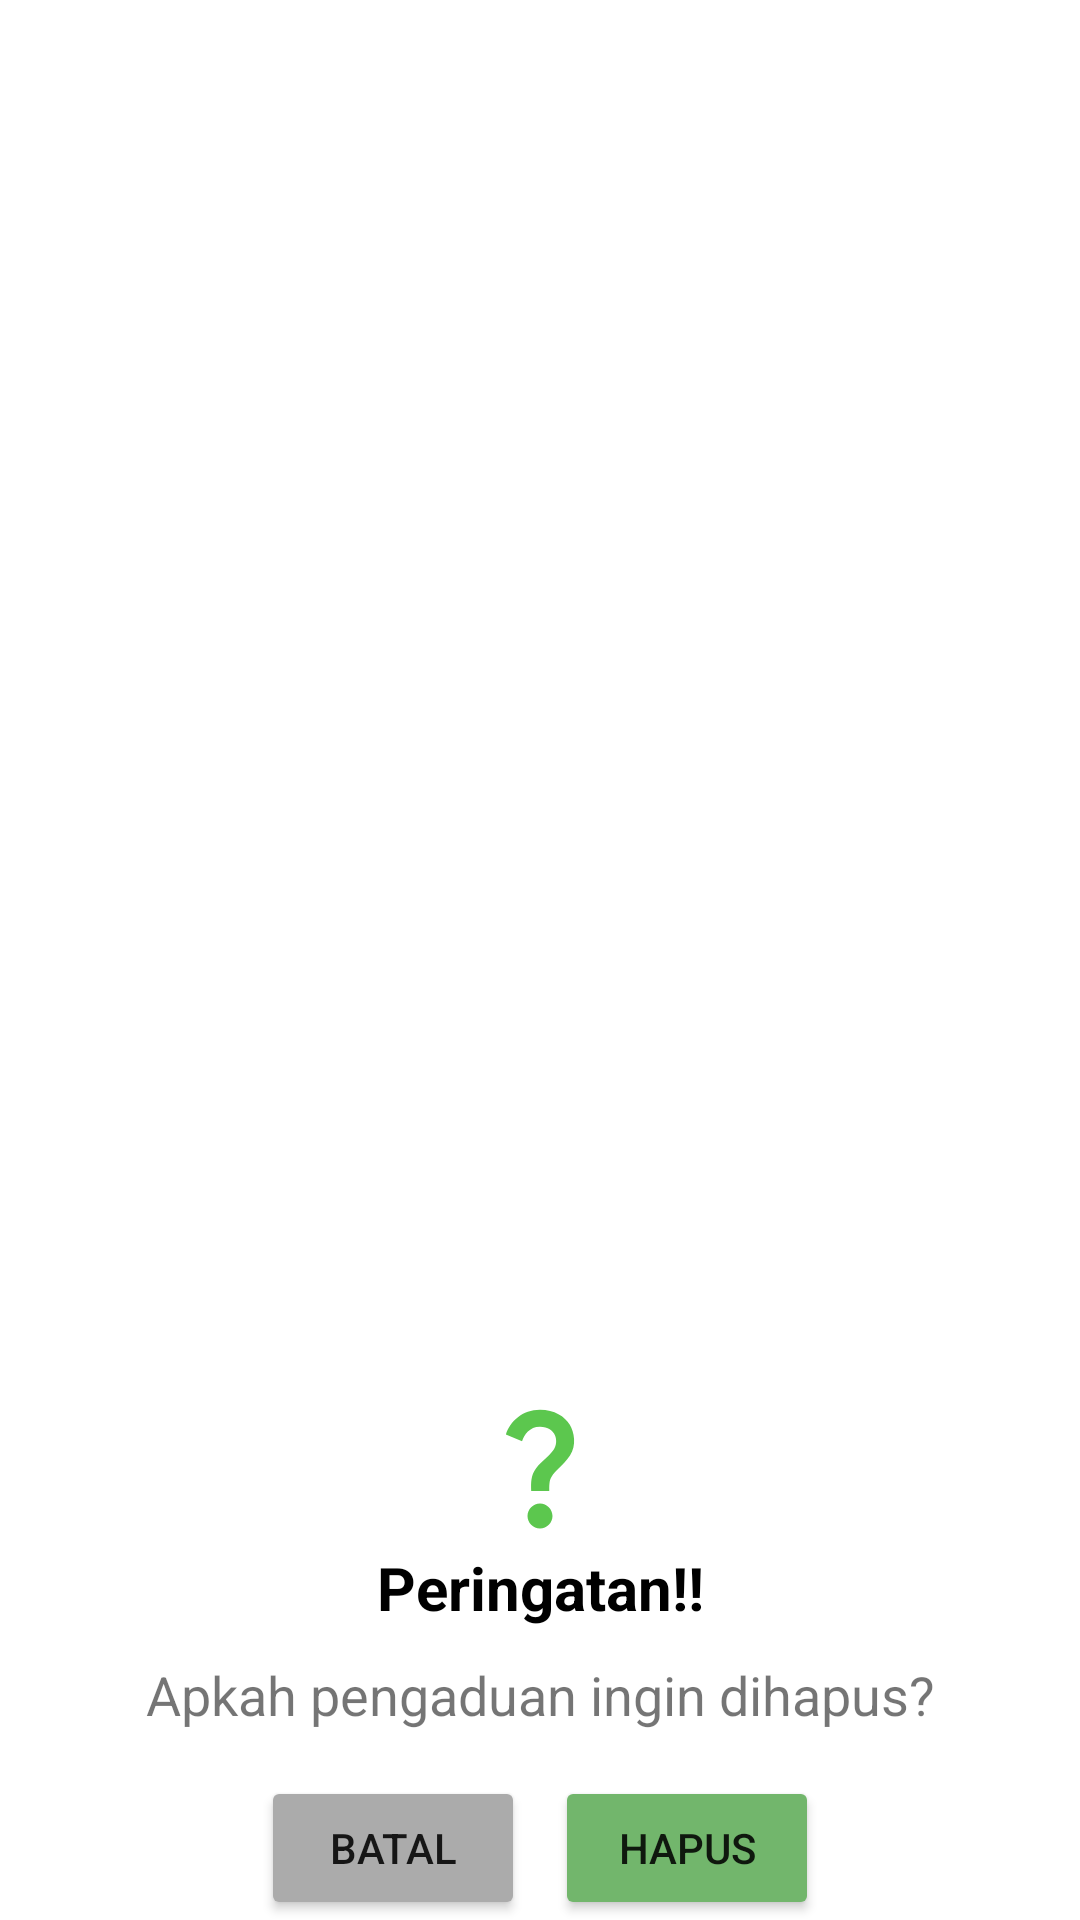

Screen size 1080 × 1920. Icon name, then its box in pixels as BBox(x1, y1, x2, y2):
tanda tanya: BBox(506, 1409, 574, 1529)
